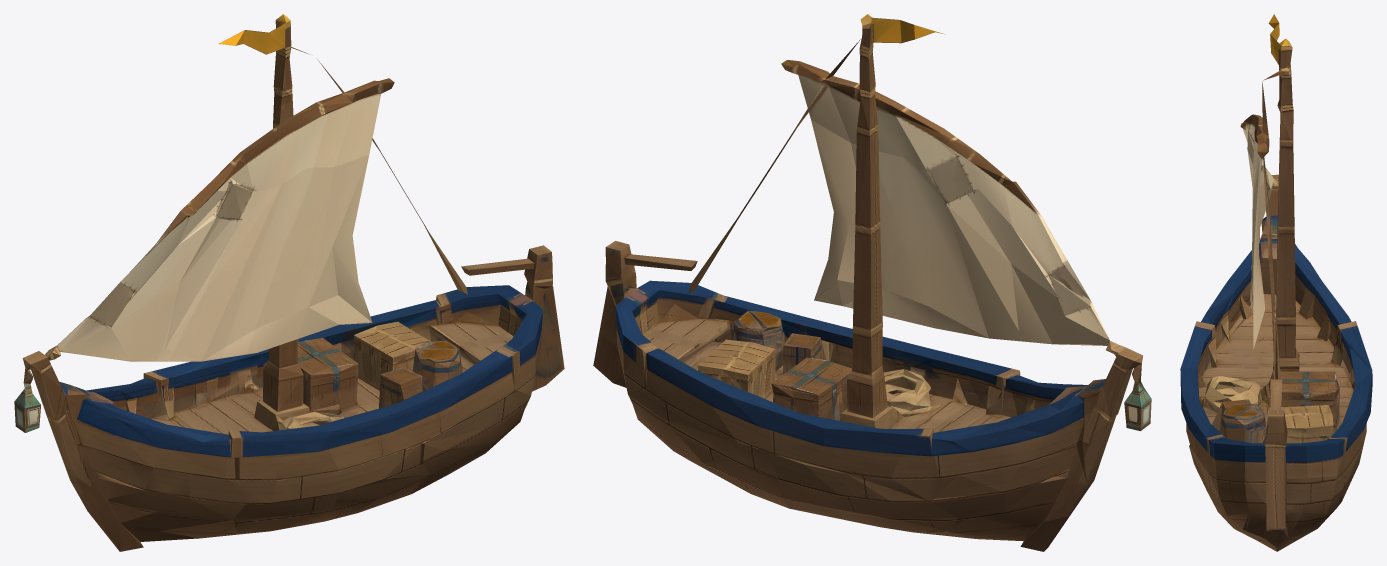
Rendered from boat.glb.
3 renders of one model, left to right at view 1: azimuth 30°, elevation 25°; view 2: azimuth 150°, elevation 25°; view 3: azimuth 270°, elevation 25°, orthographic. The views are drawn at different scales.
Bounding box in the file's own units: 1.89 × 1.68 × 0.6473.
1 material, 1 textured.
